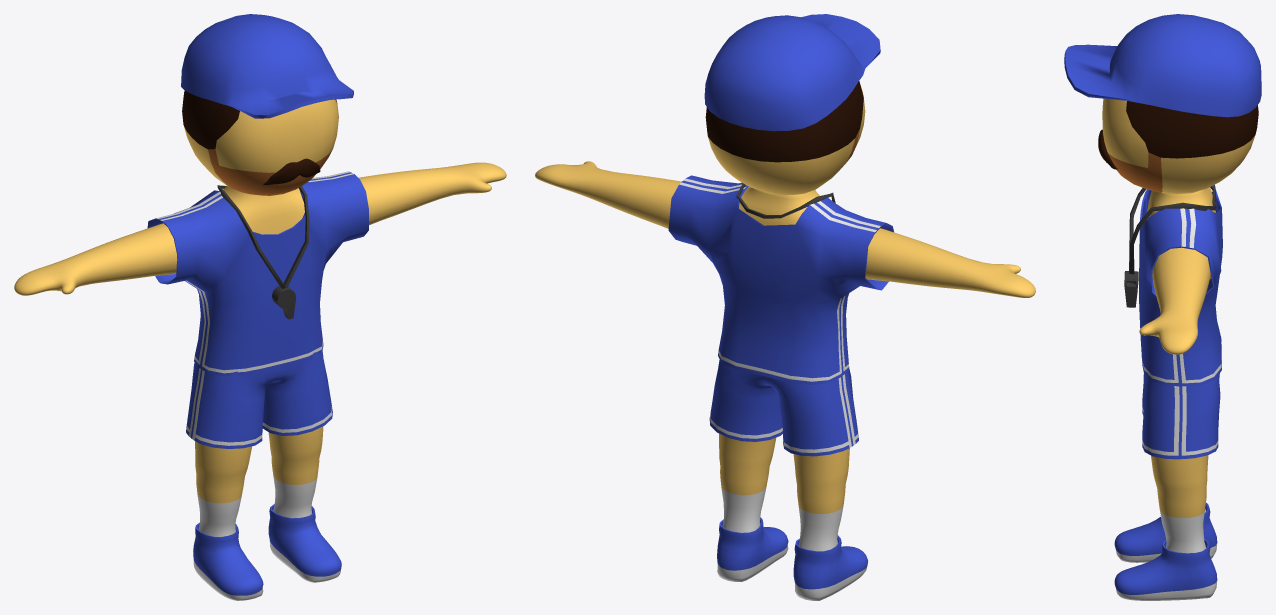
File: Coach-1.fbx
3 renders of one model, left to right at view 1: azimuth 30°, elevation 25°; view 2: azimuth 150°, elevation 25°; view 3: azimuth 270°, elevation 25°, orthographic.
Parts seen in each view (by area): view 1: Body, Tshirt, Hat, Shorts, Shoe.001, Shoe, Whistle; view 2: Body, Tshirt, Hat, Shorts, Shoe, Shoe.001; view 3: Body, Hat, Tshirt, Shorts, Shoe.001, Shoe, Whistle.
Part boxes in pixels (x1,y1,x2,y2): Body: [14, 90, 506, 536]; Tshirt: [147, 171, 368, 376]; Hat: [181, 14, 353, 118]; Shorts: [186, 351, 332, 448]; Shoe.001: [268, 504, 341, 582]; Shoe: [193, 522, 263, 600]; Whistle: [217, 185, 309, 319]; Body: [535, 81, 1035, 551]; Tshirt: [668, 175, 893, 384]; Hat: [704, 14, 880, 131]; Shorts: [709, 360, 858, 456]; Shoe: [793, 535, 867, 600]; Shoe.001: [717, 517, 788, 581]; Body: [1098, 98, 1258, 553]; Hat: [1064, 14, 1261, 117]; Tshirt: [1139, 184, 1222, 386]; Shorts: [1142, 372, 1220, 459]; Shoe.001: [1114, 538, 1217, 600]; Shoe: [1114, 502, 1217, 562]; Whistle: [1124, 185, 1216, 307].
Bounding box in the file's own units: 5.98 × 6.38 × 2.07.
